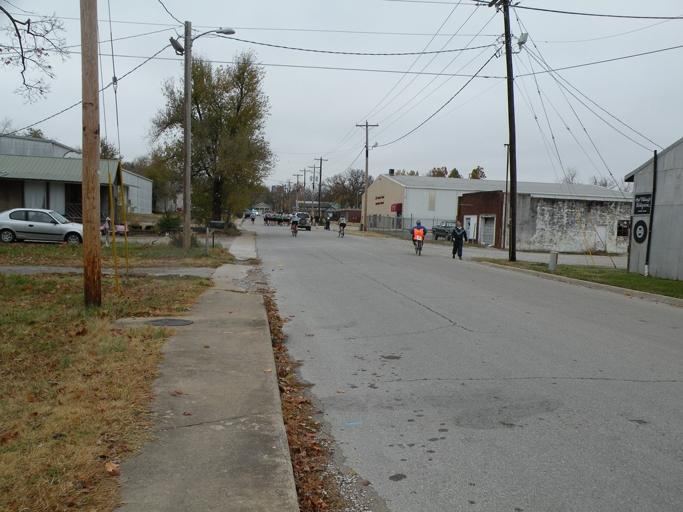non-vehicle: (413, 235, 422, 256), (336, 224, 344, 238), (291, 222, 297, 238)
